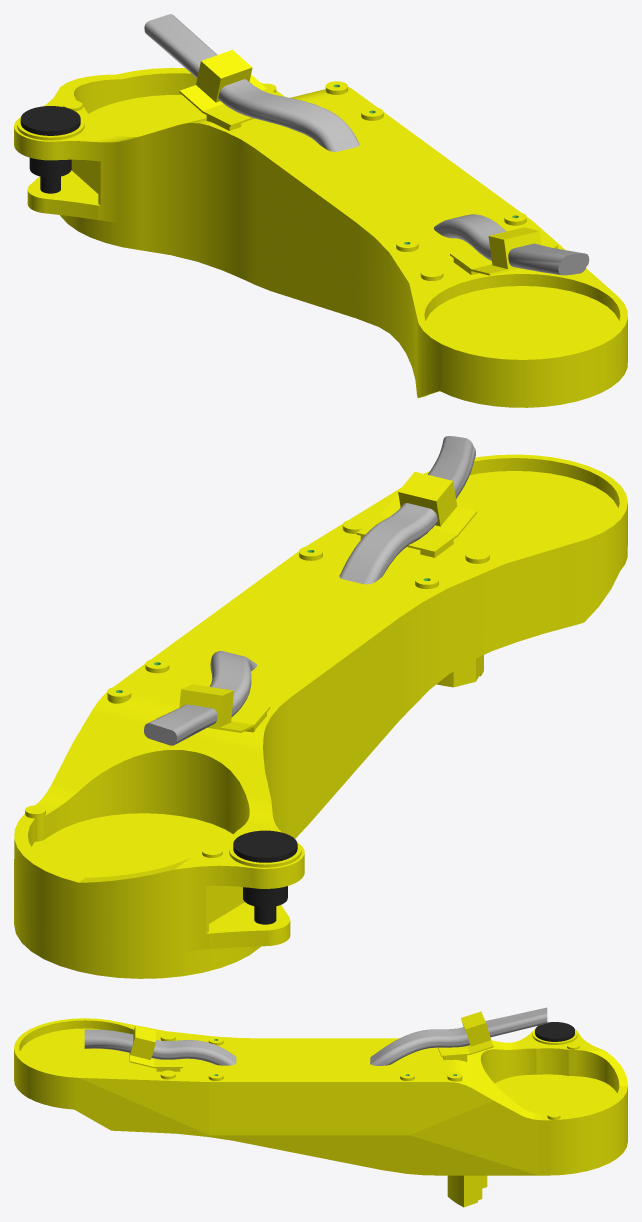
3 views of the same model, one above another, from view 1: azimuth 30°, elevation 25°; view 2: azimuth 150°, elevation 25°; view 3: azimuth 270°, elevation 25° (orthographic). The views are drawn at different scales.
Parts seen in each view (by area): view 1: 3D_J2Arm_AllCATPart; view 2: 3D_J2Arm_AllCATPart; view 3: 3D_J2Arm_AllCATPart.
Part boxes in pixels (x1,y1,x2,y2): 3D_J2Arm_AllCATPart: (14,14,627,407); 3D_J2Arm_AllCATPart: (14,436,627,978); 3D_J2Arm_AllCATPart: (14,1007,627,1207).
Bounding box in the file's own units: 468 × 417 × 1426.
